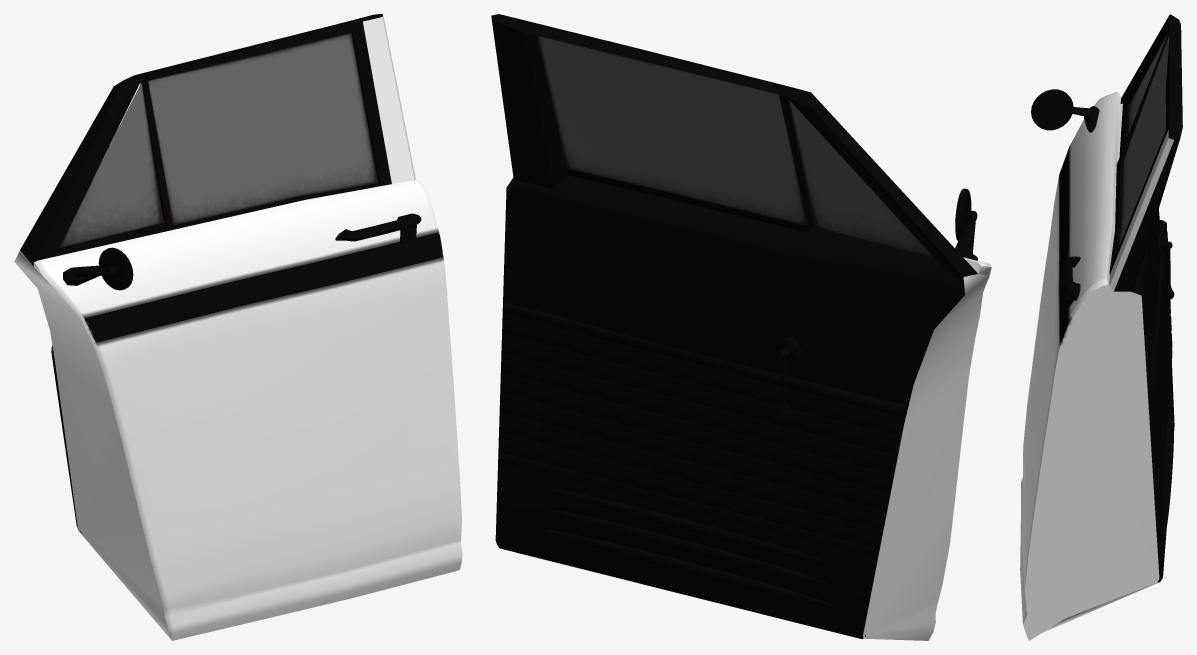
3 views of the same model, side by side, from view 1: azimuth 30°, elevation 25°; view 2: azimuth 150°, elevation 25°; view 3: azimuth 270°, elevation 25° (orthographic). The views are drawn at different scales.
Parts seen in each view (by area): view 1: SM_CR03_FD_L_01_LOD0; view 2: SM_CR03_FD_L_01_LOD0; view 3: SM_CR03_FD_L_01_LOD0.
Part boxes in pixels (x1=…): SM_CR03_FD_L_01_LOD0: x1=14, y1=14, x2=462, y2=640; SM_CR03_FD_L_01_LOD0: x1=491, y1=14, x2=991, y2=640; SM_CR03_FD_L_01_LOD0: x1=1020, y1=14, x2=1182, y2=640.
Bounding box in the file's own units: 97.27 × 35.98 × 122.
Materials: 3 (3 with a texture image).
